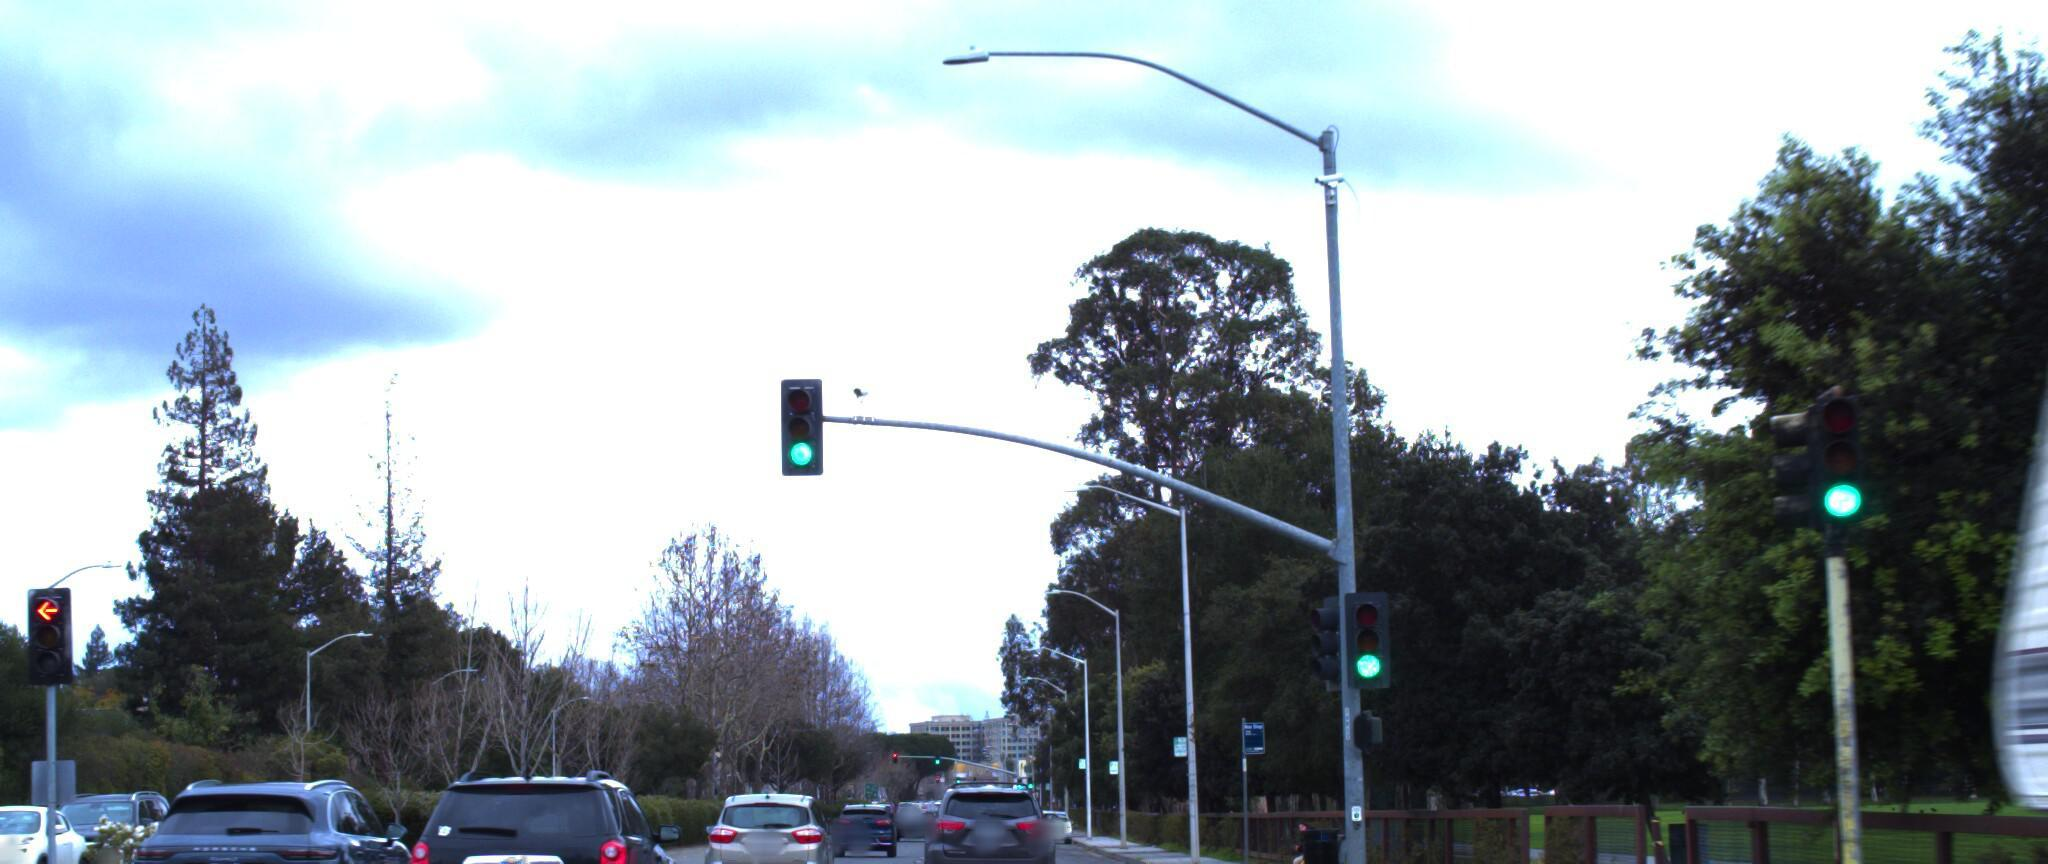car: (398, 773, 695, 864), (125, 780, 438, 864), (927, 783, 1062, 864), (703, 799, 837, 864), (0, 814, 104, 864)
other_vehicle: (1788, 0, 2048, 864)
